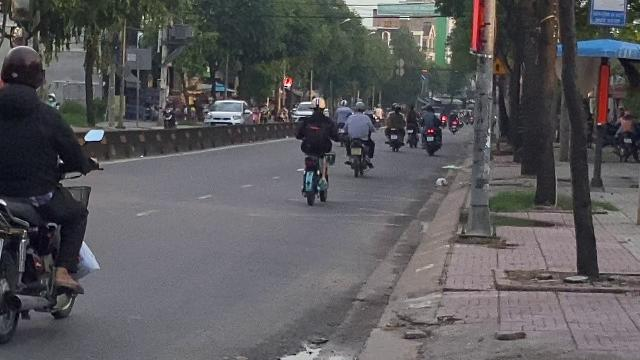helmet: (0, 44, 44, 91)
motorcyclist: (0, 42, 104, 350)
